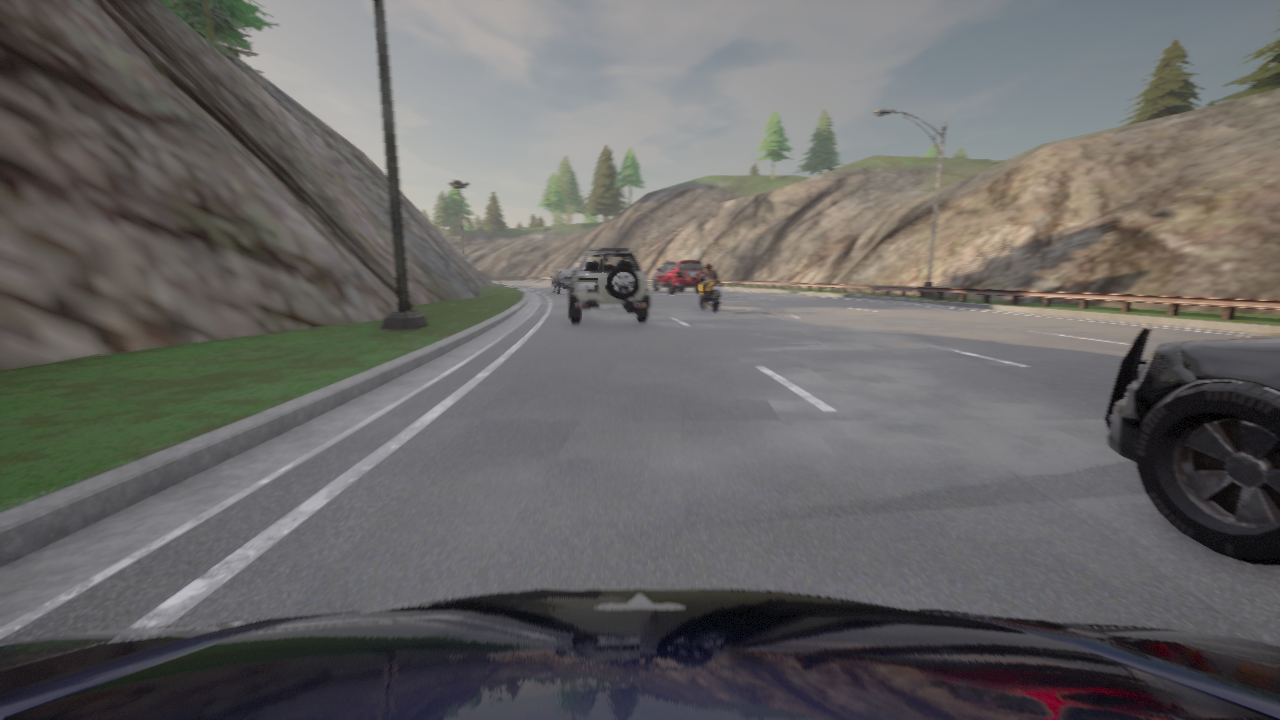cyclist: (0, 588, 1279, 719), (1104, 327, 1279, 565), (569, 248, 650, 323), (652, 260, 704, 292), (693, 276, 722, 311), (550, 269, 575, 293)
